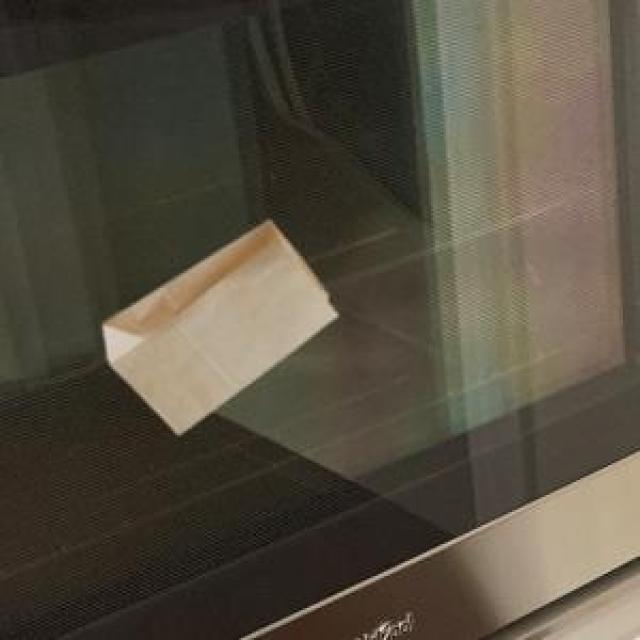paper: (100, 218, 333, 429)
